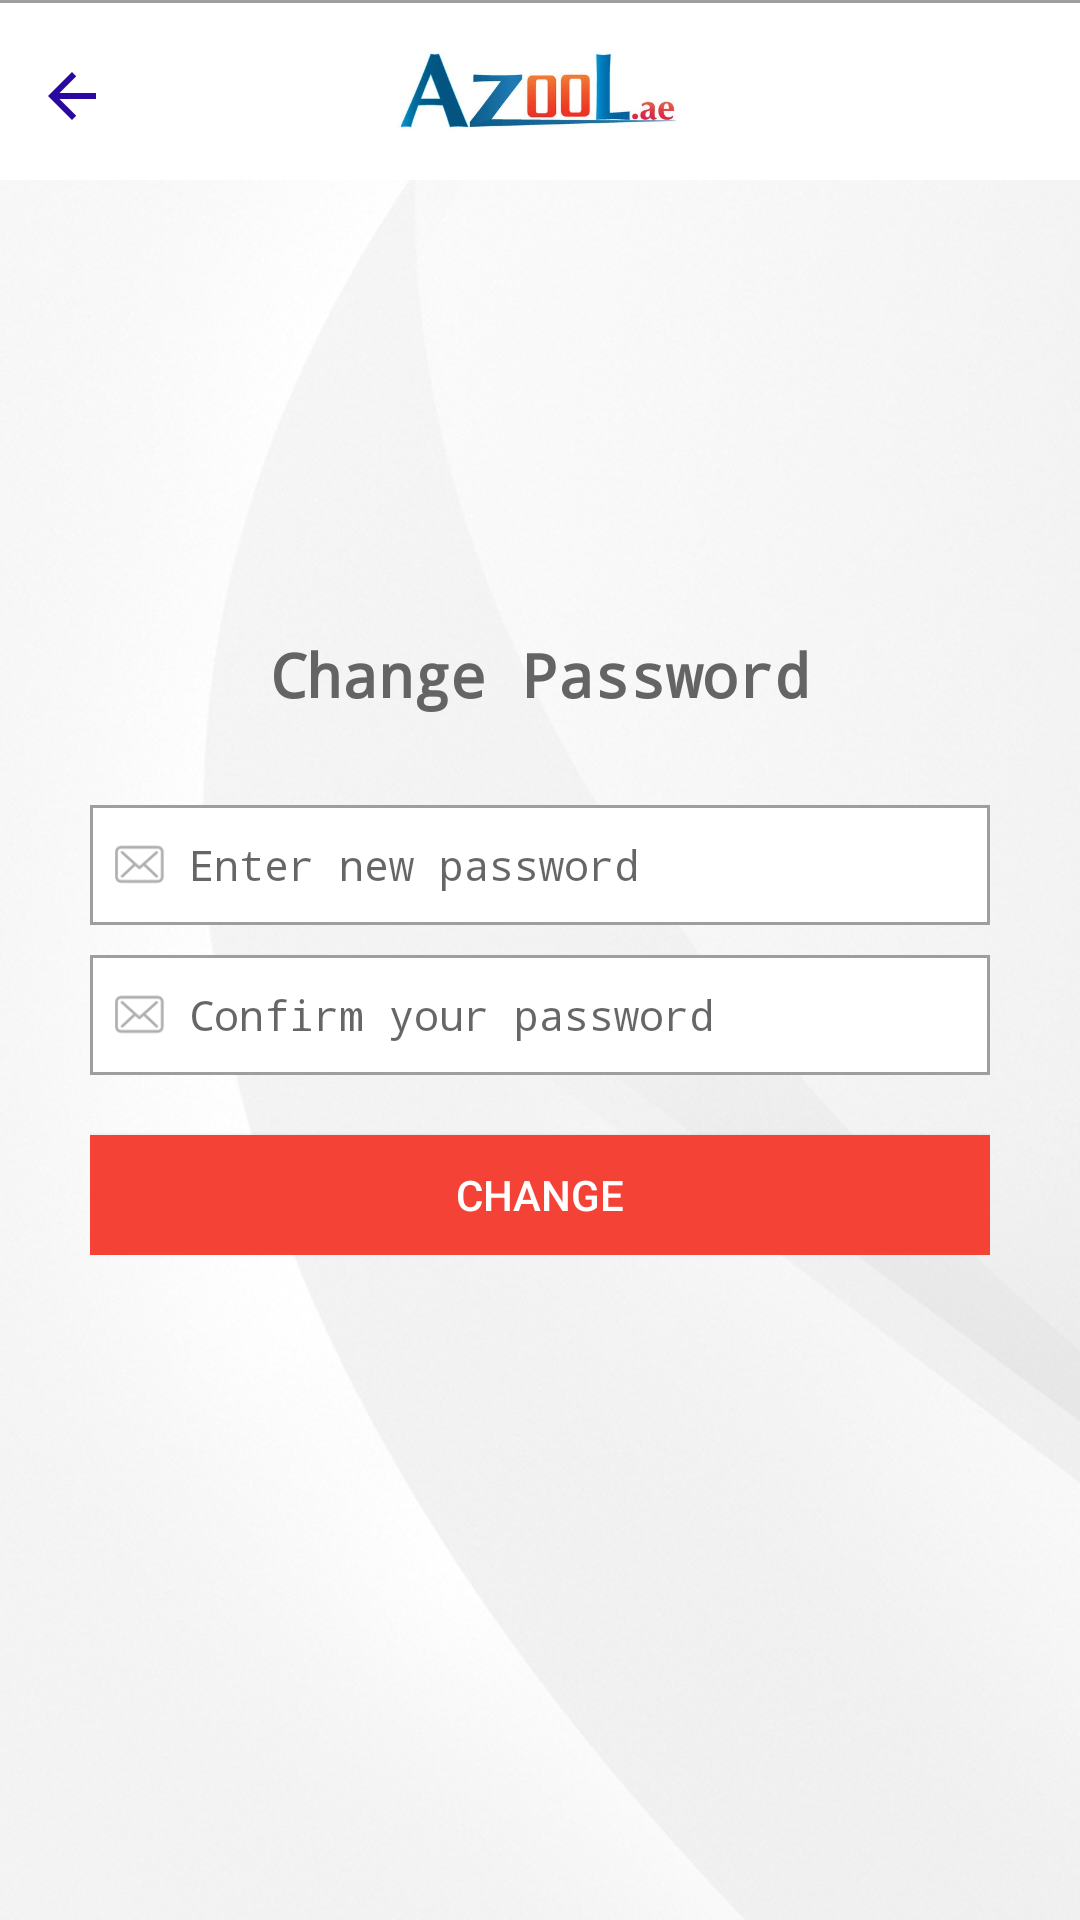

Icon bounding boxes for this 1080px×1920px phone screenshot, format (x1, y1, x2, y2):
arrow back: (48, 72, 96, 120)
